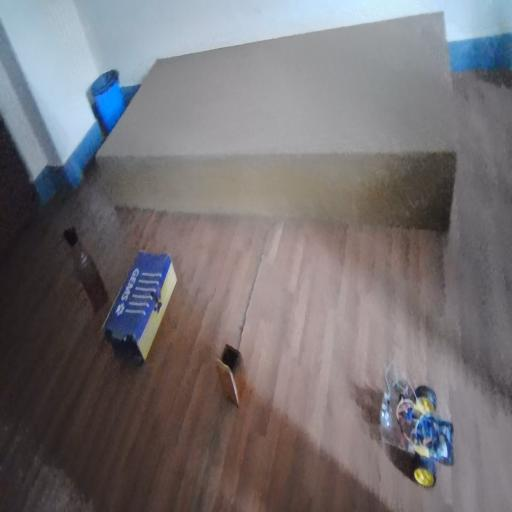Bottle: (68, 218, 110, 301)
car: (378, 354, 457, 483)
